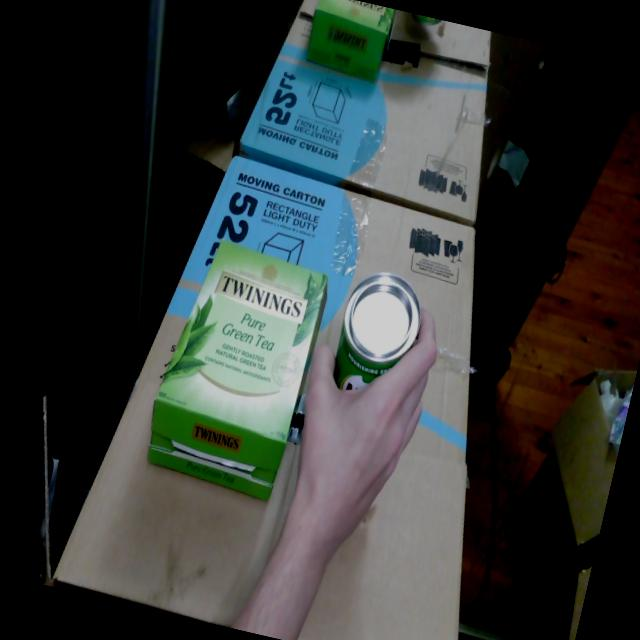nestle_milo_tin: (333, 272, 420, 389)
twinings_greentea_box: (147, 239, 328, 499)
